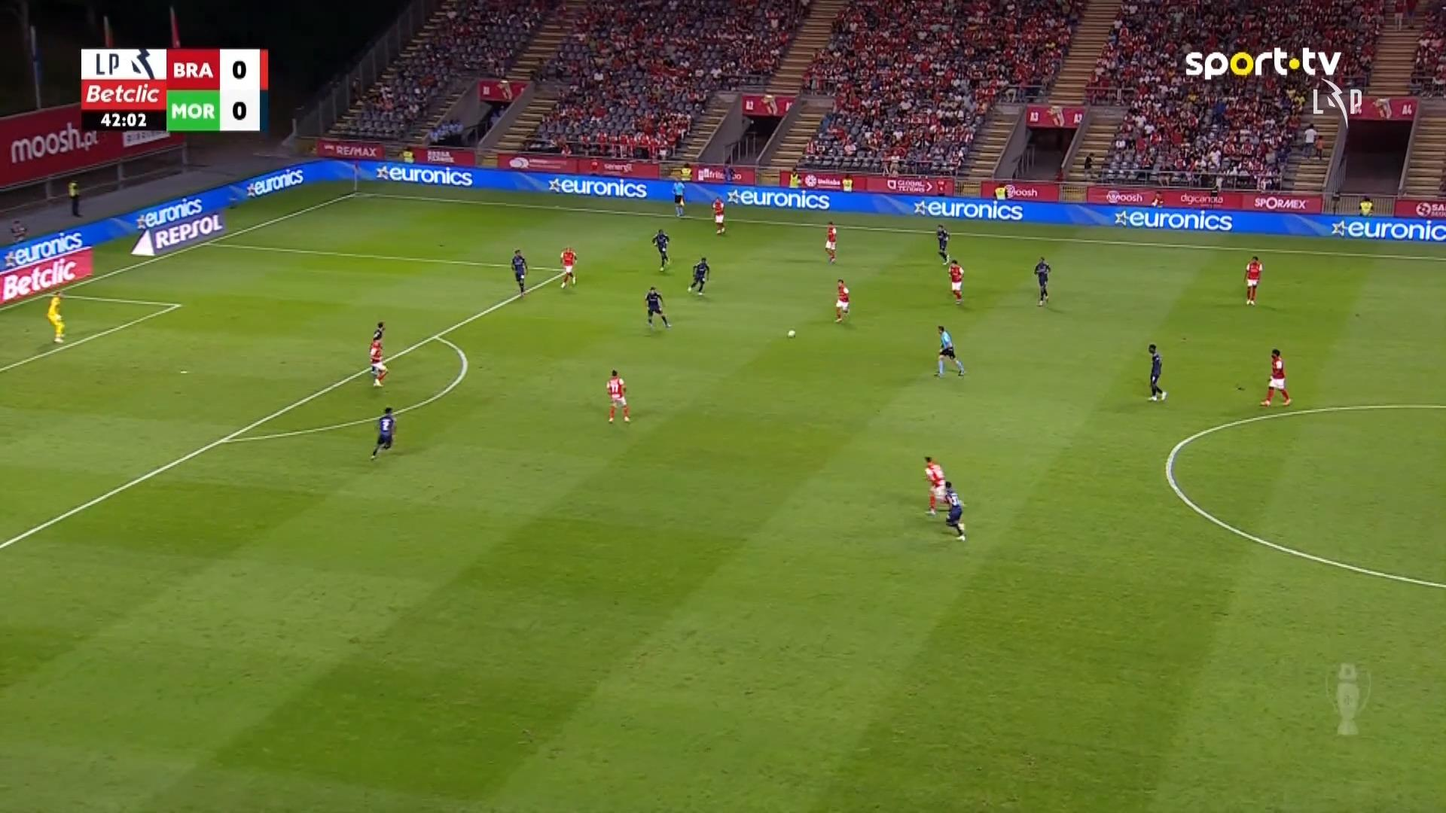ball: (787, 329, 795, 337)
goalkeeper: (46, 292, 66, 343)
player: (1259, 348, 1291, 406), (369, 406, 397, 460), (923, 455, 947, 515), (942, 480, 966, 540), (606, 369, 630, 423), (643, 285, 671, 329), (1147, 343, 1167, 401), (1243, 255, 1262, 306), (1033, 255, 1051, 306), (370, 321, 387, 375), (370, 338, 388, 387), (510, 248, 528, 294), (688, 256, 709, 295), (651, 228, 670, 271), (559, 245, 577, 288), (947, 258, 964, 302), (834, 278, 850, 322), (935, 223, 950, 265), (824, 220, 837, 263), (711, 196, 725, 234)
referee: (933, 324, 964, 378), (672, 178, 685, 218)
